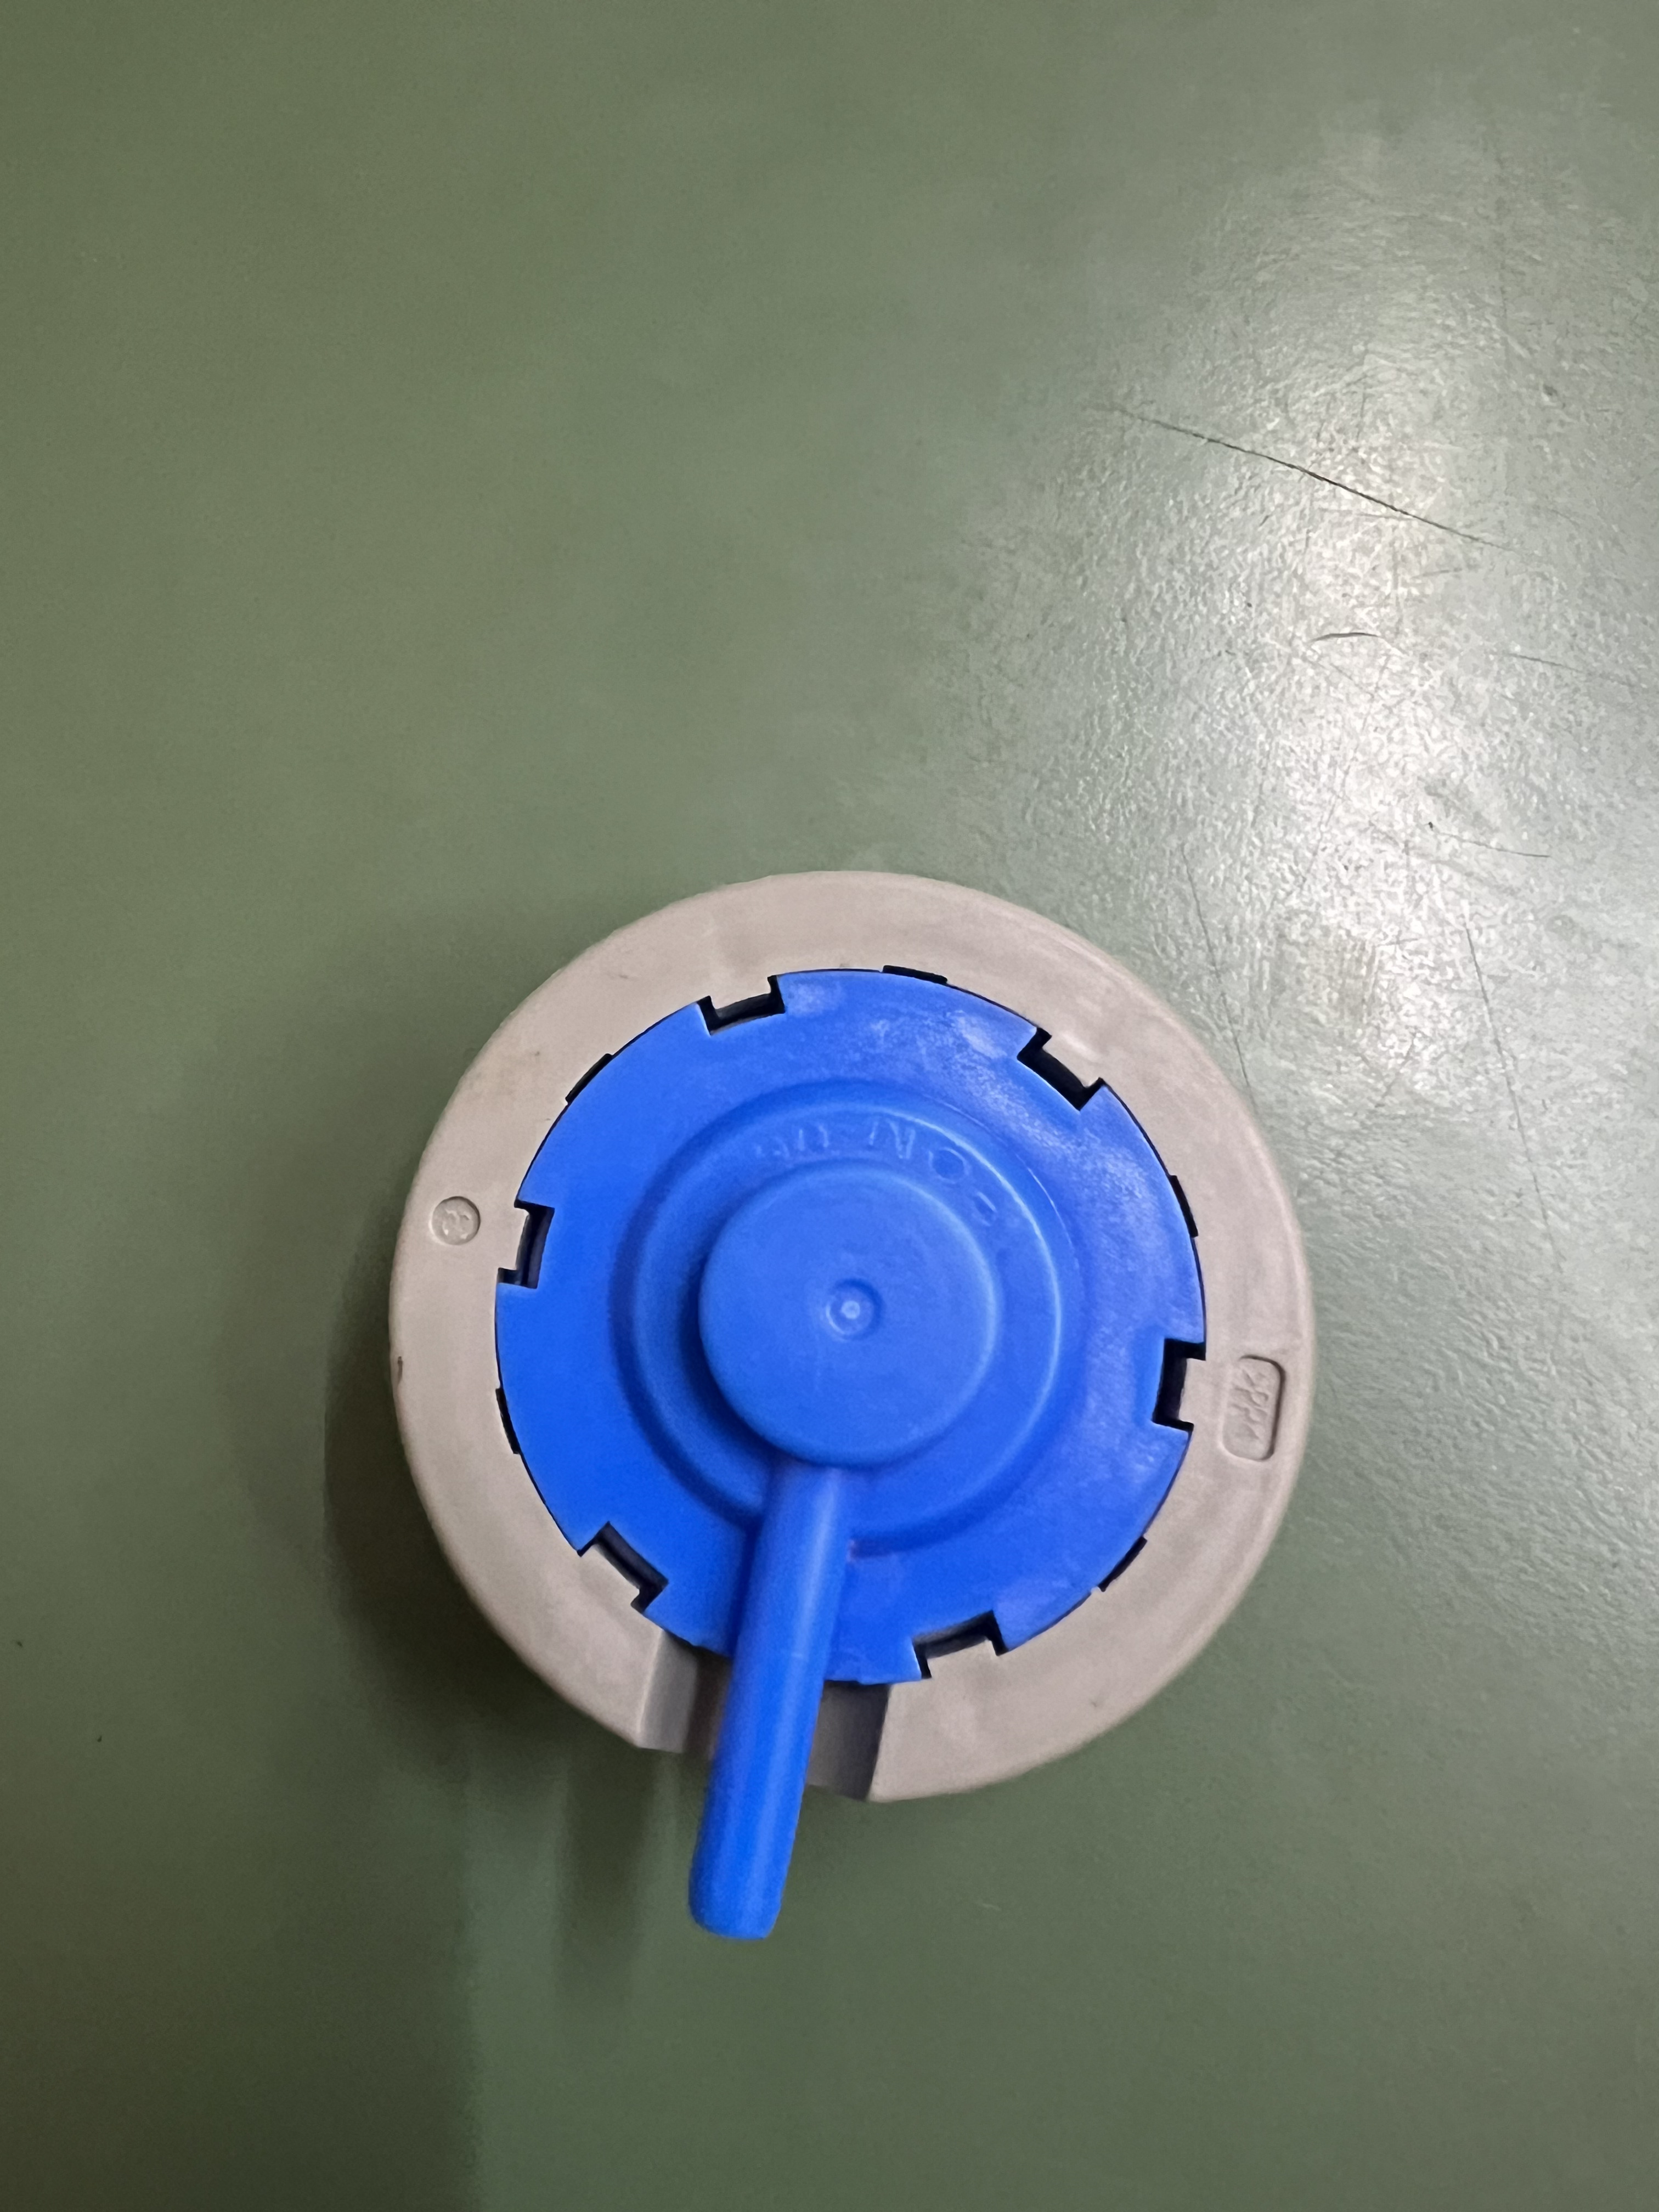pressure_sensor: (350, 860, 1333, 1940)
